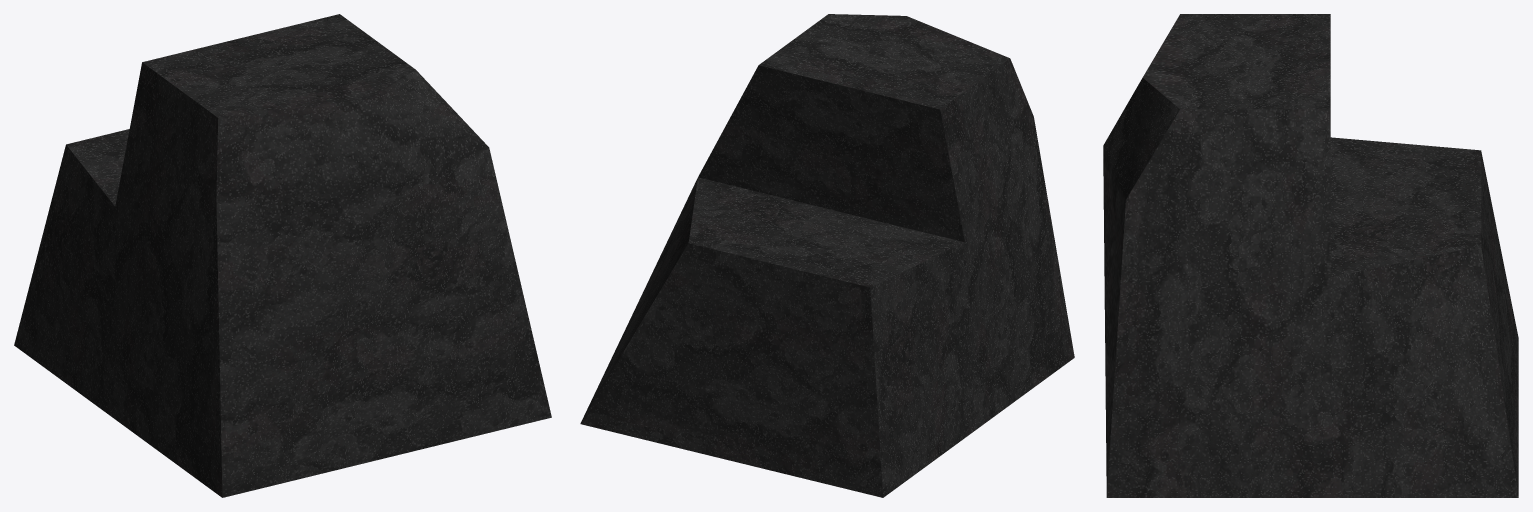
Rendered from rock_1.fbx.
3 views of the same model, side by side, from view 1: azimuth 30°, elevation 25°; view 2: azimuth 150°, elevation 25°; view 3: azimuth 270°, elevation 25° (orthographic). The views are drawn at different scales.
Visible parts, largest first — view 1: Rock1.001; view 2: Rock1.001; view 3: Rock1.001.
Boxes of the visible parts, <box> form: Rock1.001: <box>14,14,551,497</box>; Rock1.001: <box>580,14,1074,497</box>; Rock1.001: <box>1103,14,1518,497</box>.
Size of the model in its own units: 500 by 500 by 552.
